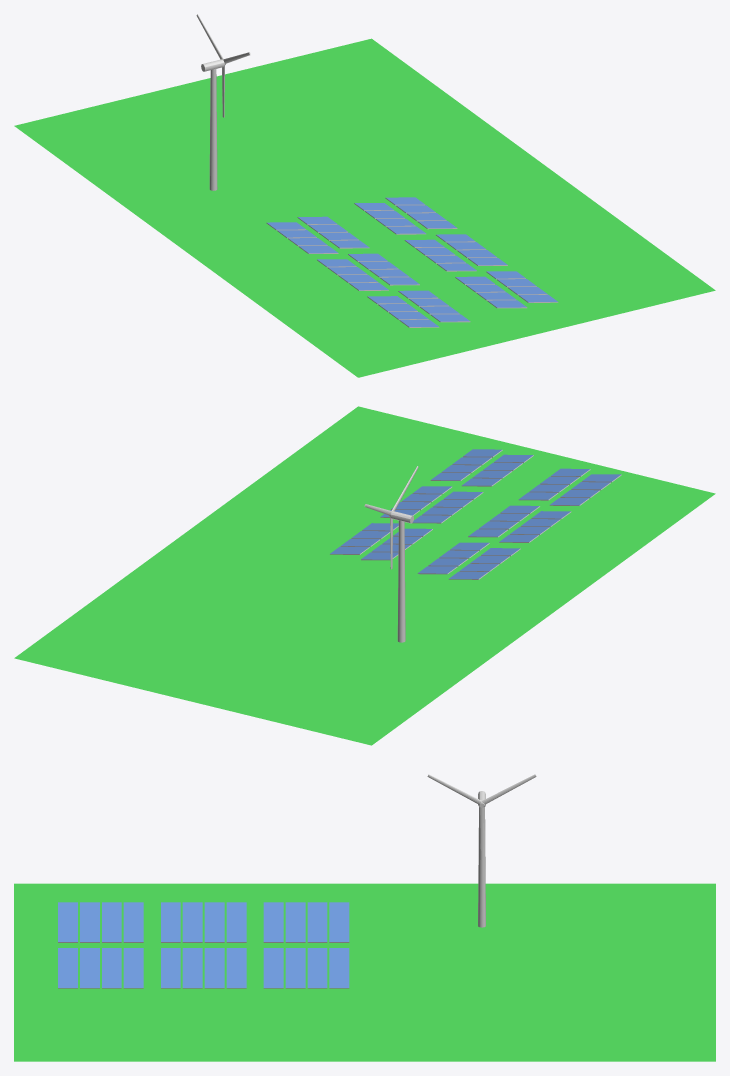
Rendered from entrymodel.glb.
3 views of the same model, one above another, from view 1: azimuth 30°, elevation 25°; view 2: azimuth 150°, elevation 25°; view 3: azimuth 270°, elevation 25° (orthographic).
Visible parts, largest first — view 1: Plane, Solar Panel, Windmill; view 2: Plane, Solar Panel, Windmill; view 3: Plane, Solar Panel, Windmill, Cylinder.004.
Boxes of the visible parts, box(x1,y1,x2,y2) form: Plane: box(14, 38, 715, 377); Solar Panel: box(266, 197, 558, 327); Windmill: box(201, 59, 225, 190); Plane: box(14, 406, 715, 745); Solar Panel: box(330, 449, 621, 579); Windmill: box(389, 511, 413, 642); Plane: box(14, 883, 715, 1061); Solar Panel: box(58, 902, 349, 988); Windmill: box(478, 791, 485, 927); Cylinder.004: box(427, 774, 536, 860).
Size of the model in its own units: 3 by 1.23 by 5.
